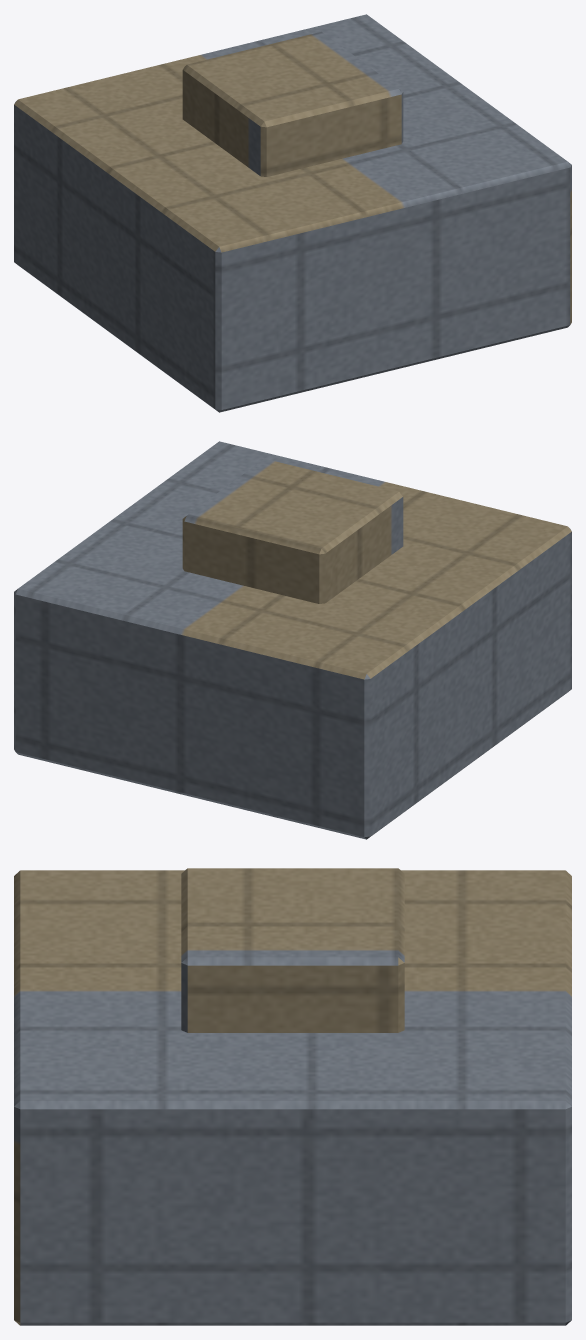
Rendered from storage.glb.
3 renders of one model, top to bottom at view 1: azimuth 30°, elevation 25°; view 2: azimuth 150°, elevation 25°; view 3: azimuth 270°, elevation 25°, orthographic. The views are drawn at different scales.
Parts seen in each view (by area): view 1: storage; view 2: storage; view 3: storage.
Boxes of the visible parts, box(x1,y1,x2,y2) form: storage: box(14, 14, 571, 412); storage: box(14, 441, 571, 839); storage: box(14, 868, 571, 1325).
Size of the model in its own units: 0.9 by 0.53 by 0.9.
Materials: 1 (1 with a texture image).
